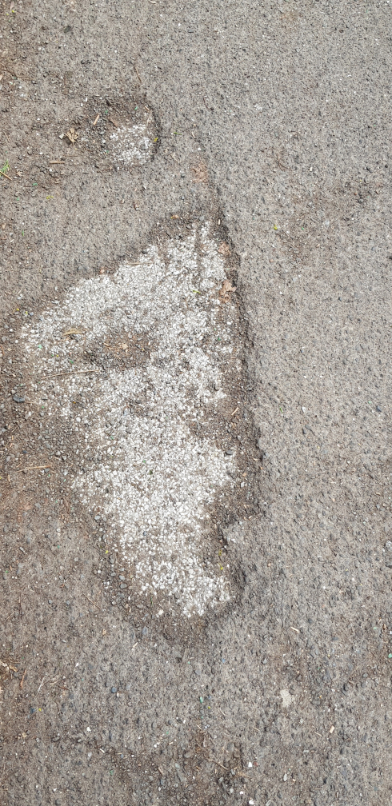pothole: (0, 185, 275, 649), (66, 90, 163, 177)
